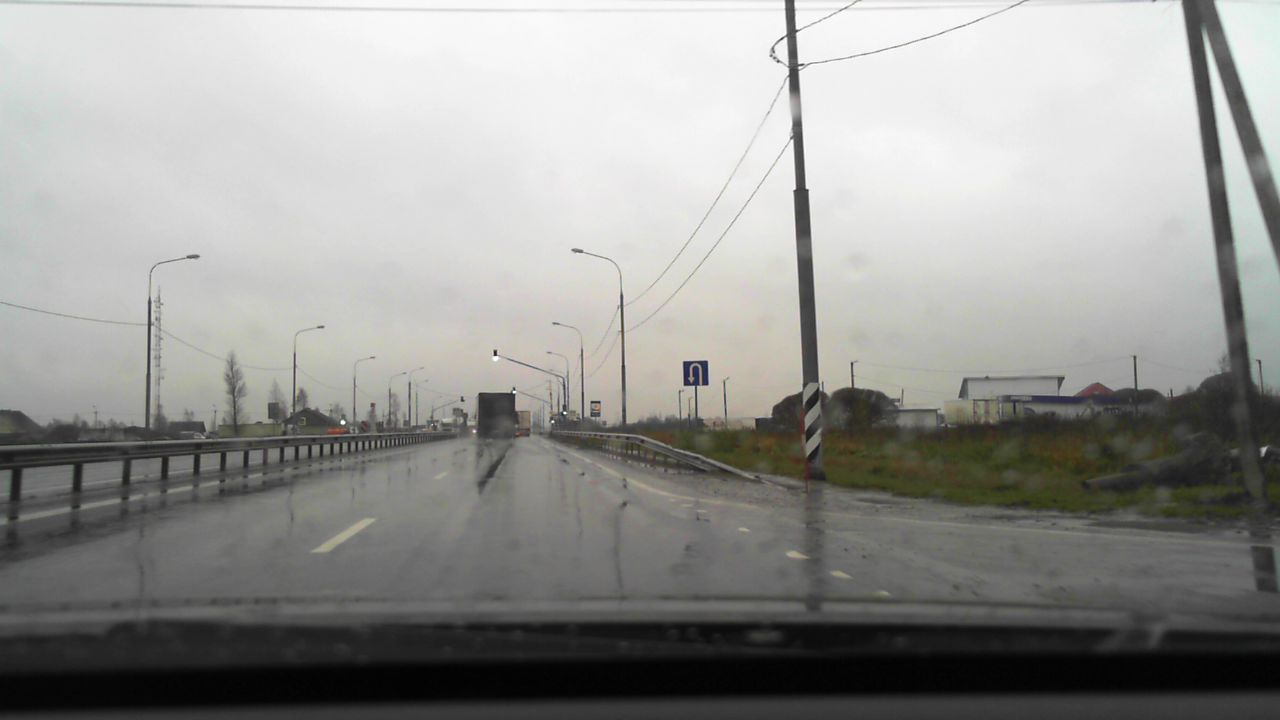U-turn: (683, 360, 708, 386)
